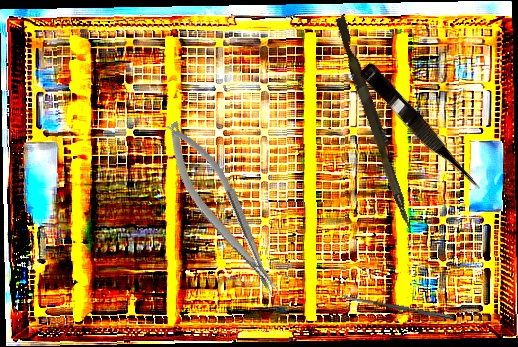Micro Scissor: (355, 61, 486, 199)
Needle Holder: (154, 112, 290, 309)
Pusher: (329, 16, 422, 233)
Surgical Spoon: (338, 292, 454, 321)
